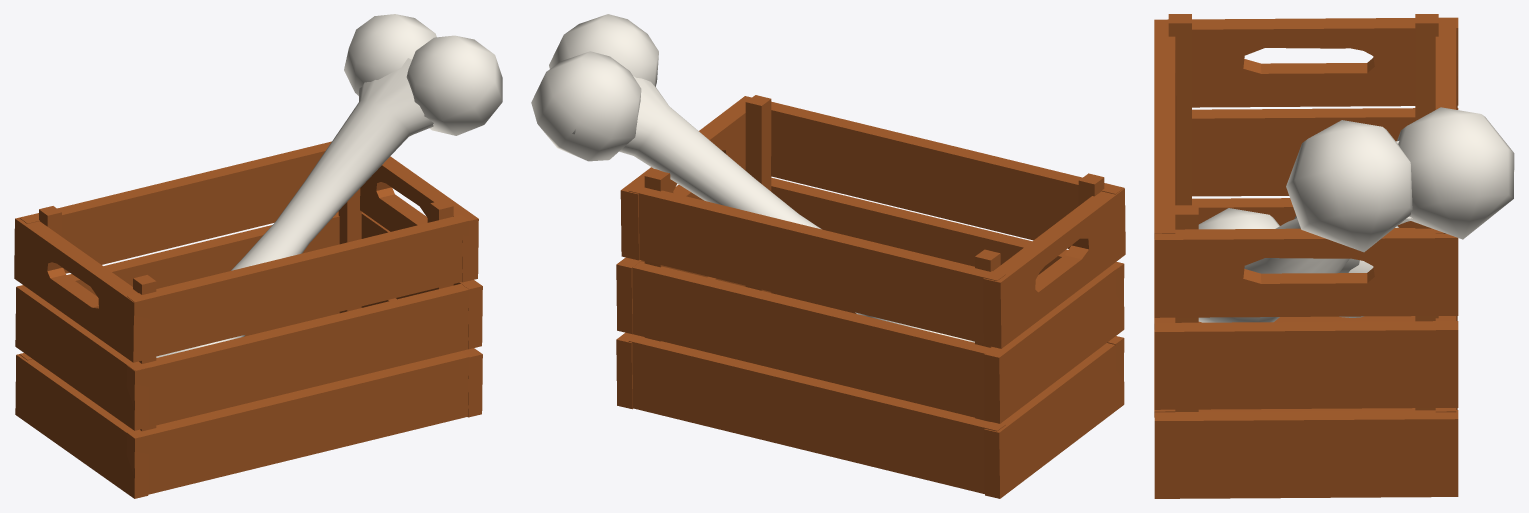
File: Crate_Bone.fbx
The picture shows the model from 3 angles, left to right: view 1: azimuth 30°, elevation 25°; view 2: azimuth 150°, elevation 25°; view 3: azimuth 270°, elevation 25°; orthographic projection. The views are drawn at different scales.
Visible parts, largest first — view 1: Cylinder002; view 2: Cylinder002; view 3: Cylinder002.
Part boxes in pixels (x1,y1,x2,y2): Cylinder002: (14,14,502,498); Cylinder002: (531,14,1125,498); Cylinder002: (1154,14,1514,498).
Bounding box in the file's own units: 113 × 75.07 × 60.67.
